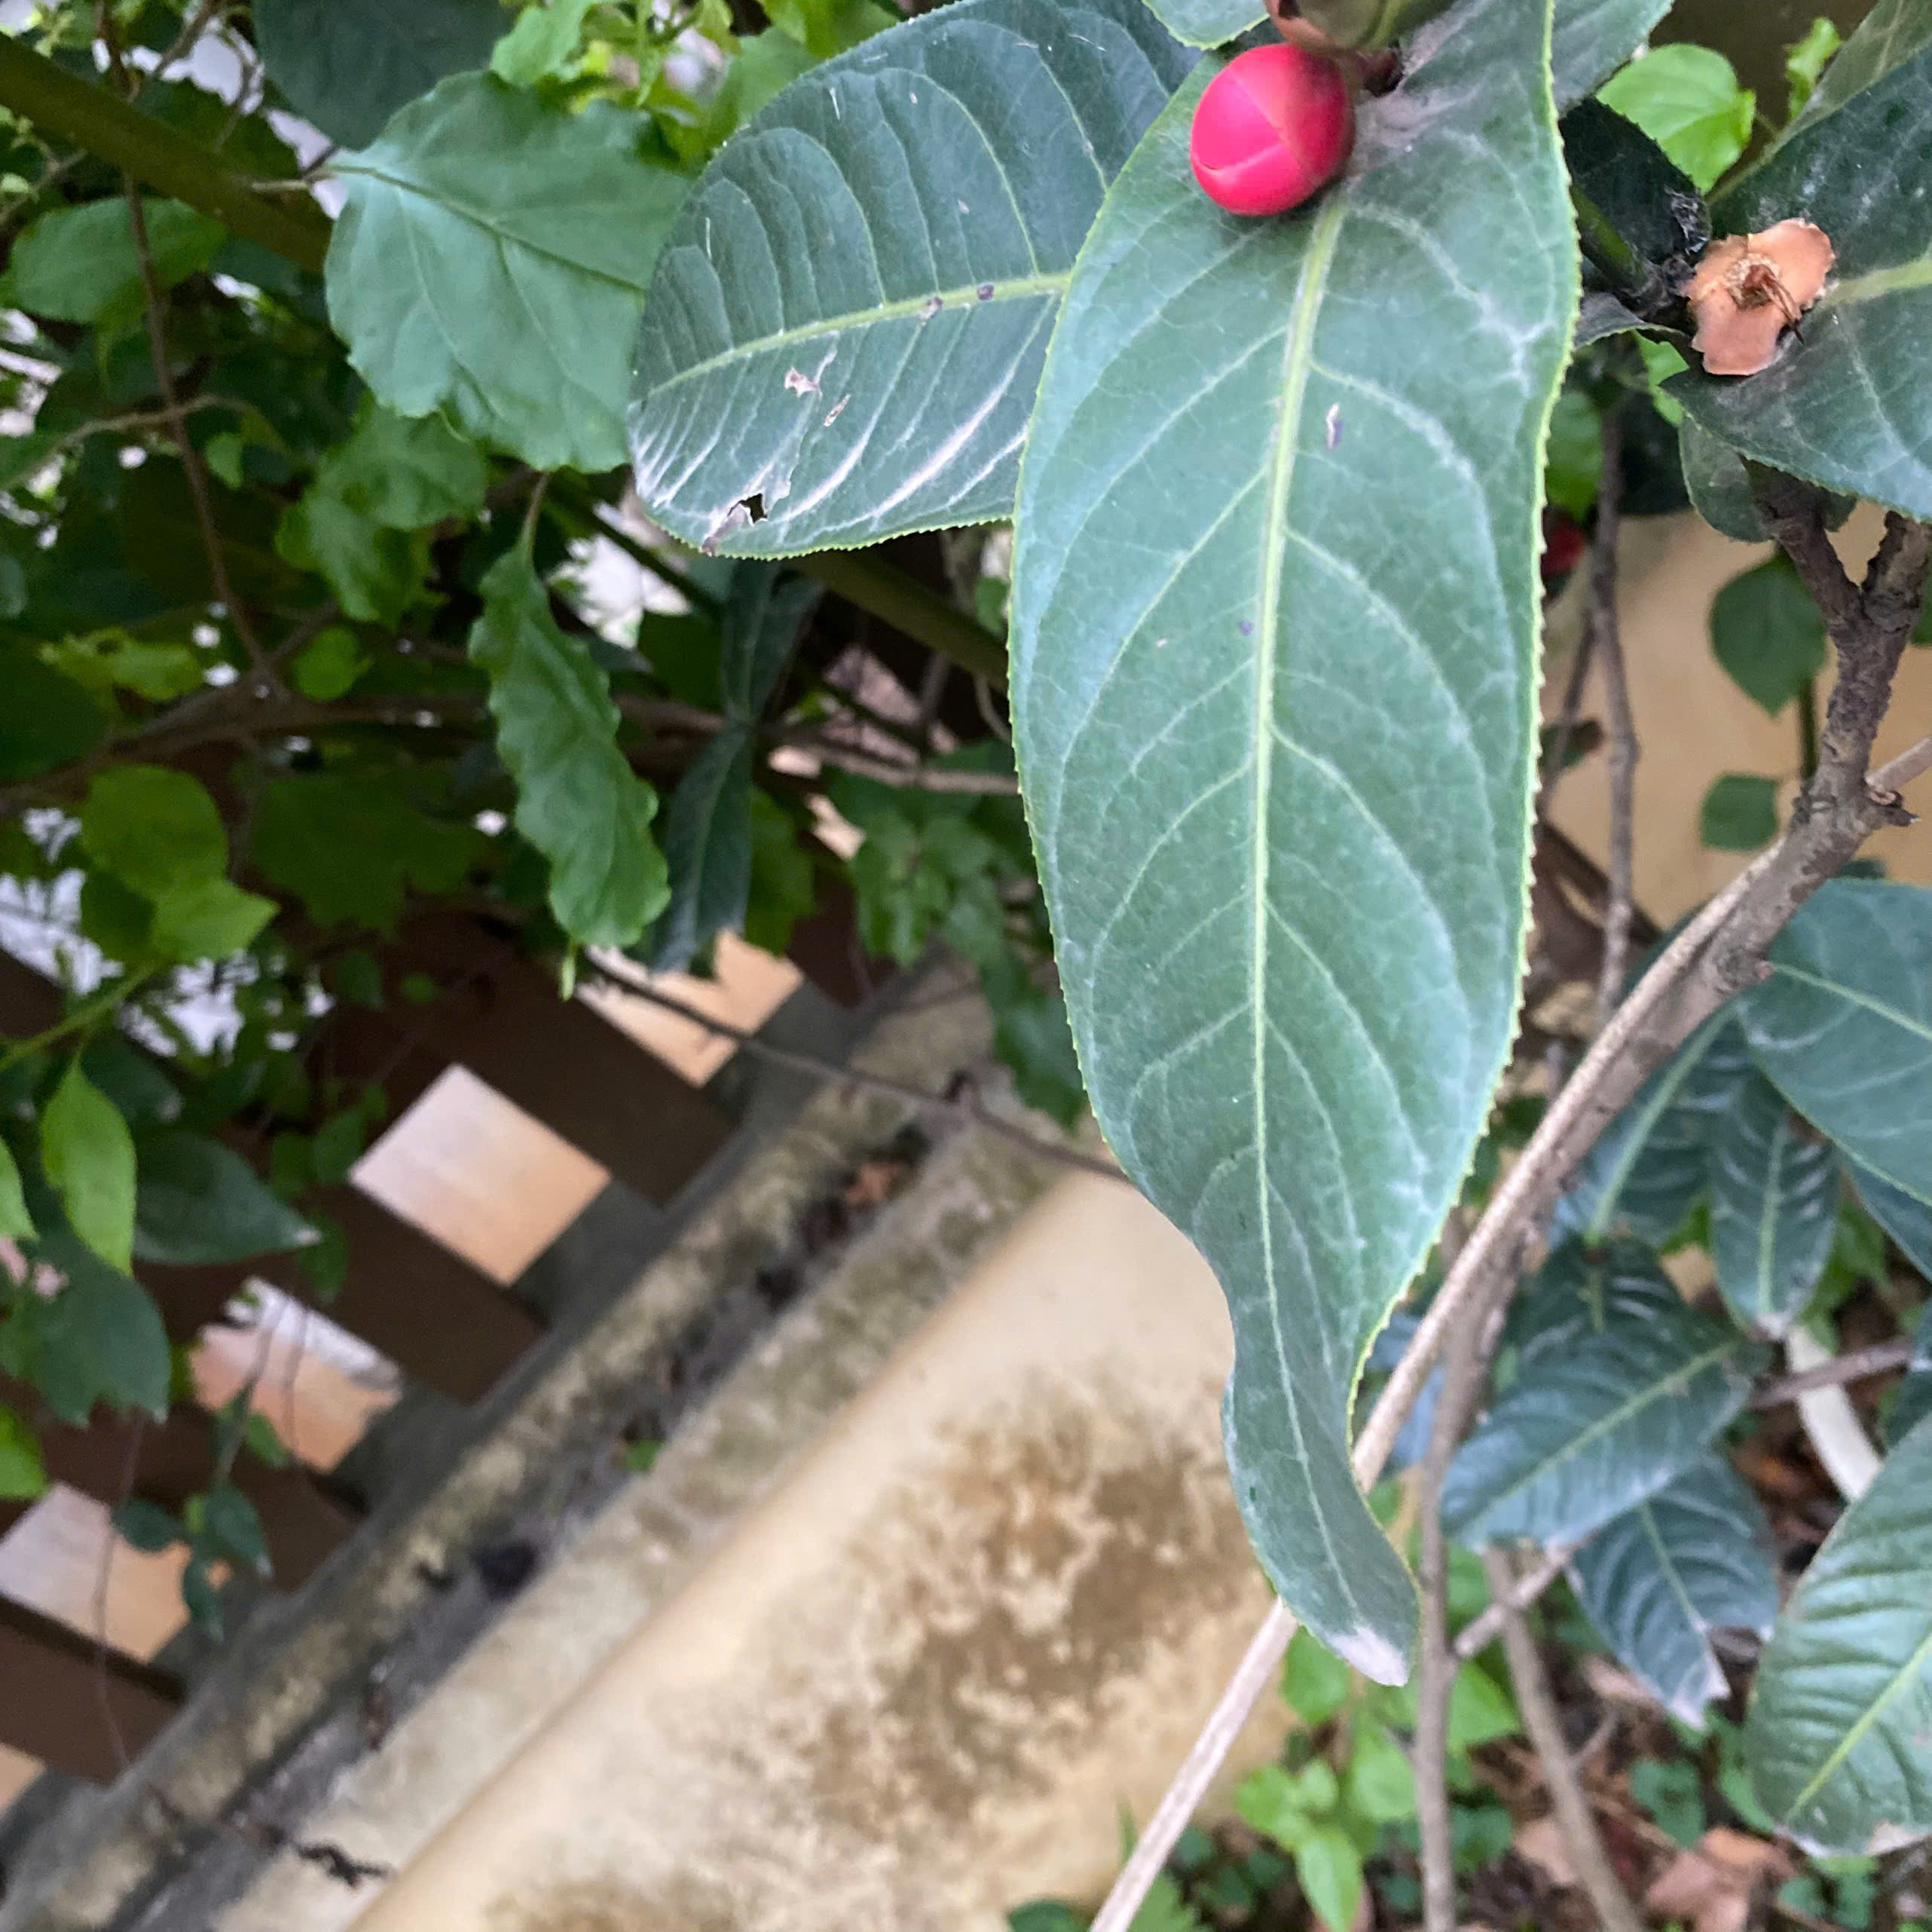hoa_hai_duong: (1024, 51, 1605, 1709)
